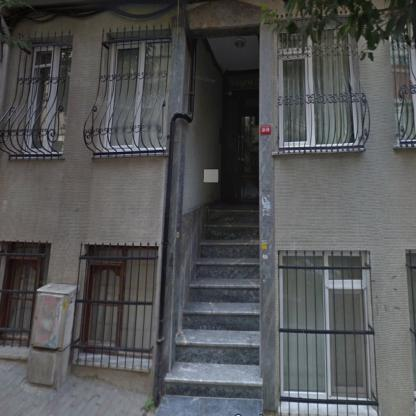door: (222, 101, 258, 199)
window: (282, 253, 369, 401), (278, 30, 356, 145), (81, 248, 156, 354), (103, 40, 169, 150), (25, 47, 70, 152), (1, 245, 46, 344)
